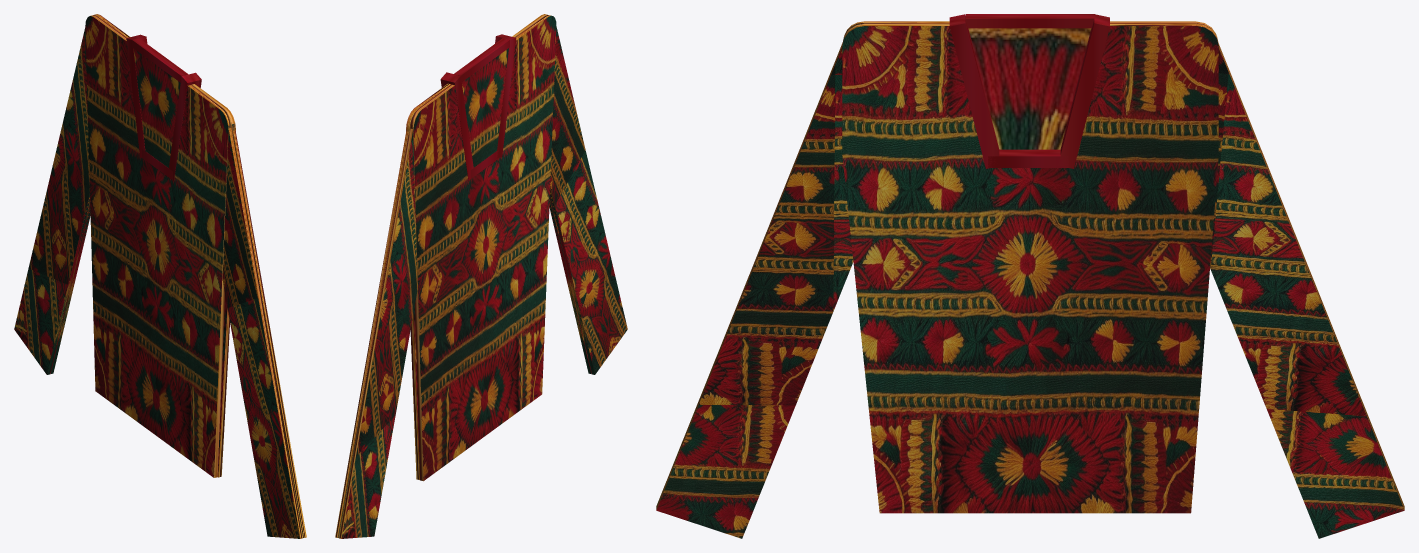
Rendered from Guayabera1_3.obj.
The picture shows the model from 3 angles, left to right: view 1: azimuth 30°, elevation 25°; view 2: azimuth 150°, elevation 25°; view 3: azimuth 270°, elevation 25°; orthographic projection. The views are drawn at different scales.
Parts seen in each view (by area): view 1: Guayabera1; view 2: Guayabera1; view 3: Guayabera1.
Boxes of the visible parts, x1,y1,x2,y2 form: Guayabera1: (14,14,306,538); Guayabera1: (335,14,627,538); Guayabera1: (656,14,1404,538).
Size of the model in its own units: 0.0201 by 0.5339 by 0.6959.
Materials: 1 (1 with a texture image).
